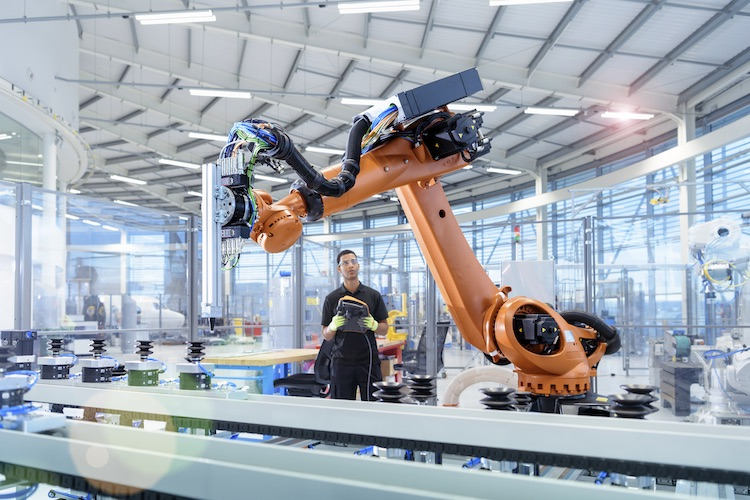person: (319, 248, 393, 405)
robot: (198, 64, 622, 414)
